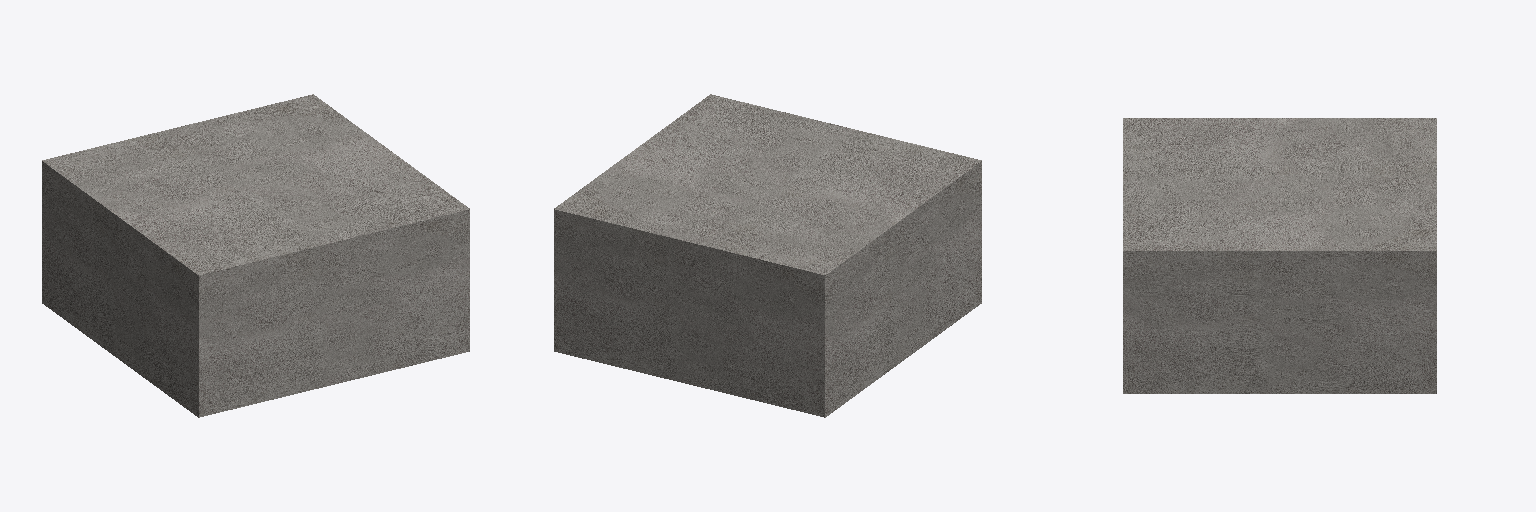
The picture shows the model from 3 angles: view 1: azimuth 30°, elevation 25°; view 2: azimuth 150°, elevation 25°; view 3: azimuth 270°, elevation 25°; orthographic projection.
Parts seen in each view (by area): view 1: 5x5x2,5; view 2: 5x5x2,5; view 3: 5x5x2,5.
Boxes of the visible parts, x1=… form: 5x5x2,5: x1=42, y1=94, x2=469, y2=417; 5x5x2,5: x1=554, y1=94, x2=981, y2=417; 5x5x2,5: x1=1123, y1=118, x2=1436, y2=393.
Bounding box in the file's own units: 5 × 2.5 × 5.
Materials: 1 (1 with a texture image).